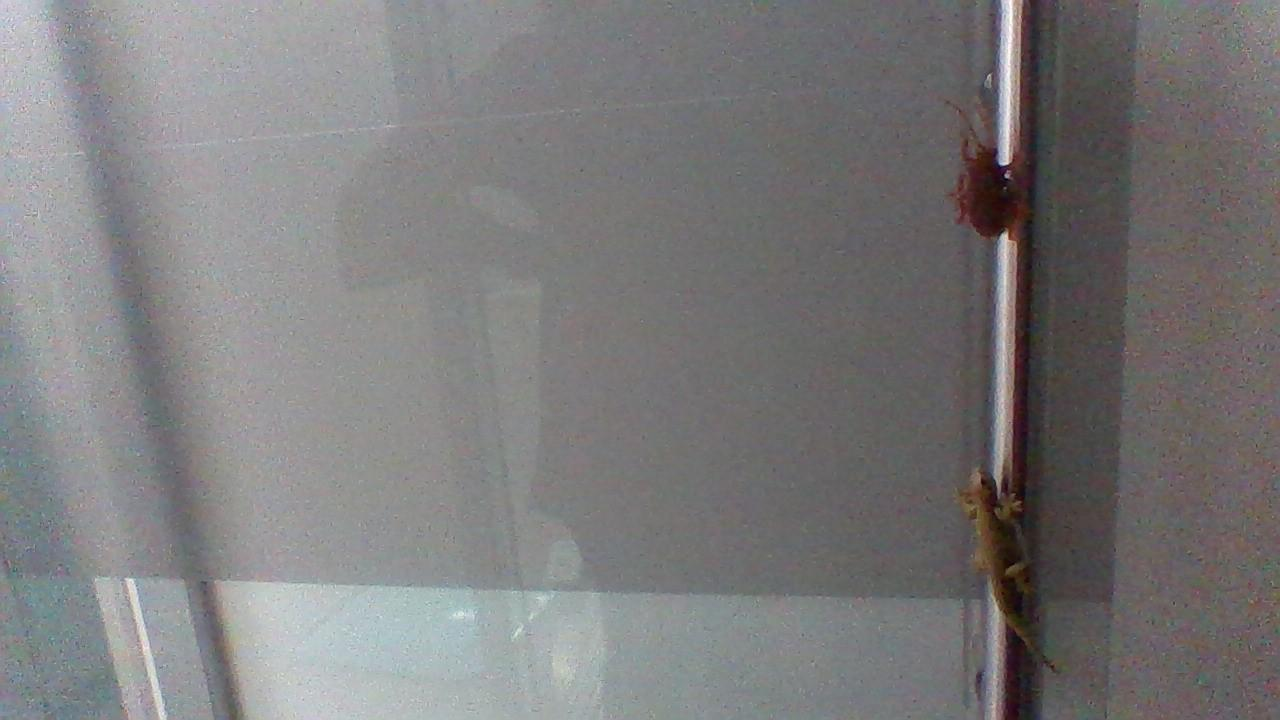cockroach: (907, 85, 1029, 253)
lizard: (952, 455, 1056, 673)
